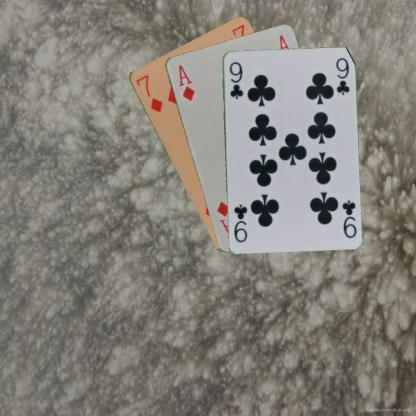7d: (133, 72, 164, 113)
9c: (226, 58, 245, 100), (339, 197, 357, 239)
Ad: (176, 62, 196, 103)
